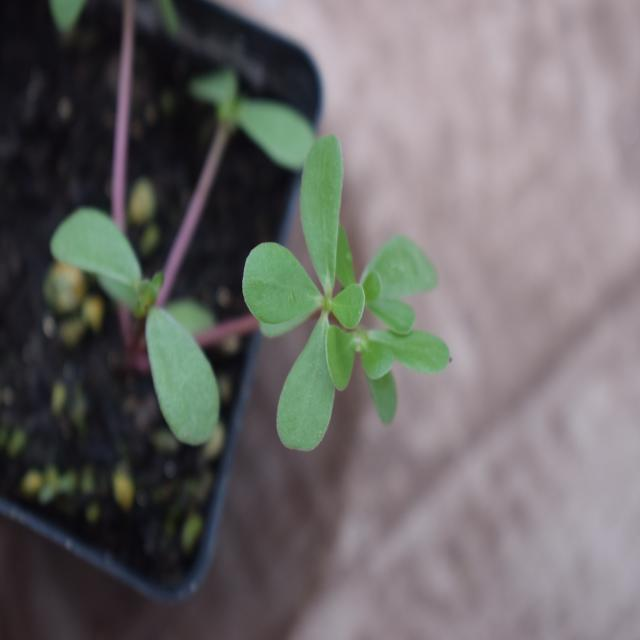purslane: (229, 126, 490, 534)
